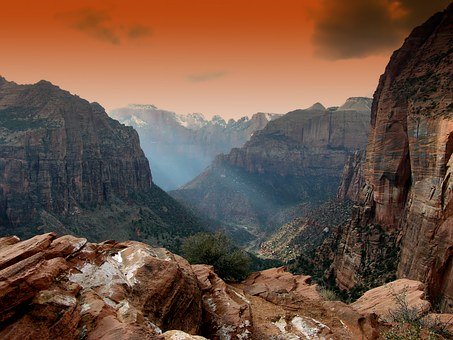mountain: (7, 85, 453, 335)
sky: (1, 1, 420, 103)
